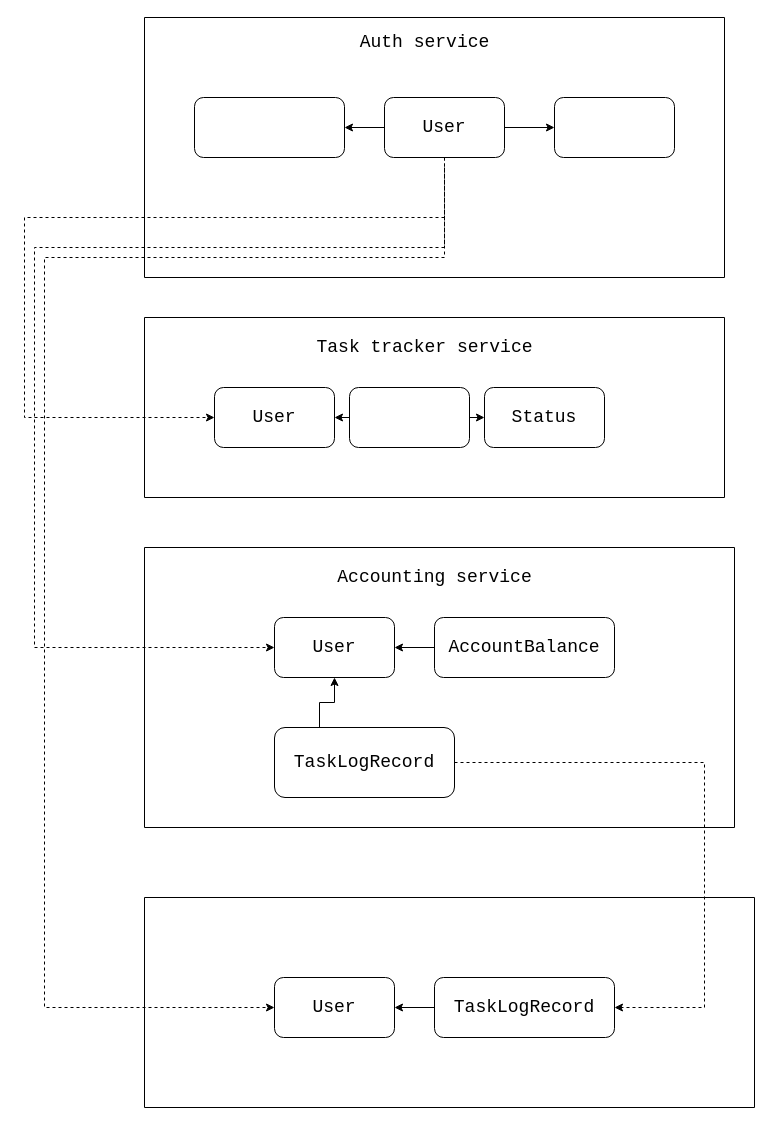
Image size: 772x1125. Some labels were removed from this diagram. Here are the shapes that lost their labels. From the top down, the centre of each, then its label:
At pixel 269 127: "AuthContext".
At pixel 614 127: "Role".
At pixel 409 417: "Task".
At pixel 449 1002: "Analytics service".
